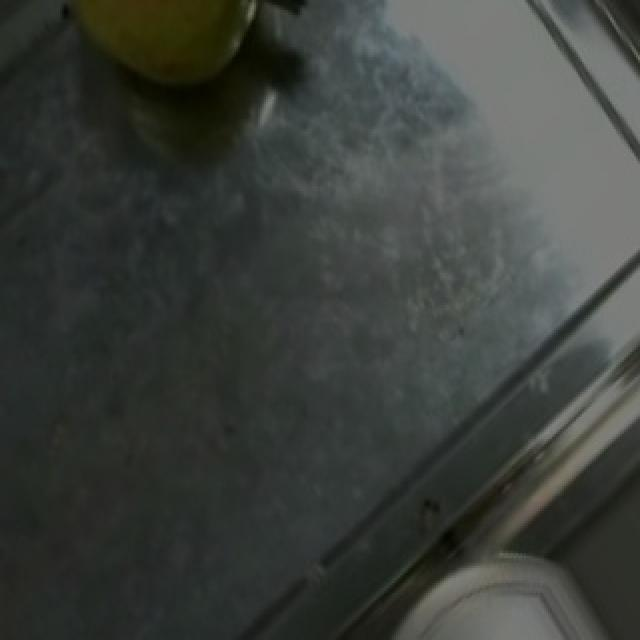fruit: (36, 0, 274, 109), (400, 560, 614, 640)
